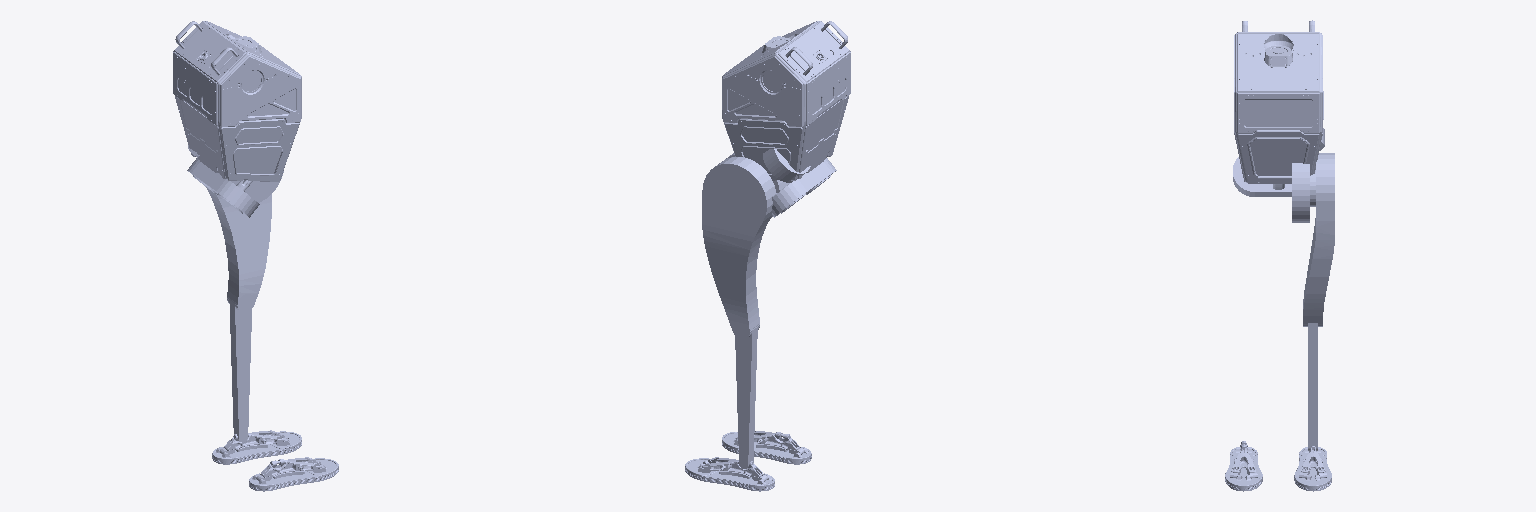
URDF robot description (TH01):
<?xml version="1.0" ?>
<!-- =================================================================================== -->
<!-- |    This document was autogenerated by csv to urdf                               | -->
<!-- |    EDITING THIS FILE BY HAND IS NOT RECOMMENDED                                 | -->
<!-- =================================================================================== -->
<robot
  name="TH01">
  <link
    name="BASE_LINK">
    <inertial>
      <origin
        xyz="-0.01331 0 0.14967"
        rpy="0 0 0" />
      <mass
        value="13.27922" />
      <inertia
        ixx="0.60276"
        ixy="0"
        ixz="-0.03884"
        iyy="0.60004"
        iyz="0.00001"
        izz="0.18187" />
    </inertial>
    <visual>
      <origin
        xyz="0 0 0"
        rpy="0 0 0" />
      <geometry>
        <mesh
          filename="package://TH01/meshes/BASE_LINK.STL" />
      </geometry>
      <material
        name="">
        <color
          rgba="0.79216 0.81961 0.93333 1" />
      </material>
    </visual>
    <collision>
      <origin
        xyz="0 0 0"
        rpy="0 0 0" />
      <geometry>
        <mesh
          filename="package://TH01/meshes/BASE_LINK.STL" />
      </geometry>
    </collision>
  </link>
  <link
    name="HIP_R">
    <inertial>
      <origin
        xyz="0.00398 -0.00006 0.00636"
        rpy="0 0 0" />
      <mass
        value="0.83264" />
      <inertia
        ixx="0.0019"
        ixy="0"
        ixz="0"
        iyy="0.00124"
        iyz="0"
        izz="0.00094" />
    </inertial>
    <visual>
      <origin
        xyz="0 0 0"
        rpy="0 0 0" />
      <geometry>
        <mesh
          filename="package://TH01/meshes/HIP_R.STL" />
      </geometry>
      <material
        name="">
        <color
          rgba="0.79216 0.81961 0.93333 1" />
      </material>
    </visual>
    <collision>
      <origin
        xyz="0 0 0"
        rpy="0 0 0" />
      <geometry>
        <mesh
          filename="package://TH01/meshes/HIP_R.STL" />
      </geometry>
    </collision>
  </link>
  <joint
    name="HIP_YAW_R"
    type="revolute">
    <origin
      xyz="-0.114705815 -0.0625004 -0.120801022"
      rpy="0 0.785398163 0" />
    <parent
      link="BASE_LINK" />
    <child
      link="HIP_R" />
    <axis
      xyz="0 0 1" />
    <limit
      lower="0"
      upper="0"
      effort="0"
      velocity="0" />
  </joint>
  <link
    name="HIP_ABAD_R">
    <inertial>
      <origin
        xyz="-0.002 0.00147 0.00404"
        rpy="0 0 0" />
      <mass
        value="2.78794" />
      <inertia
        ixx="0.01442"
        ixy="0"
        ixz="-0.00002"
        iyy="0.00791"
        iyz="0"
        izz="0.0072" />
    </inertial>
    <visual>
      <origin
        xyz="0 0 0"
        rpy="0 0 0" />
      <geometry>
        <mesh
          filename="package://TH01/meshes/HIP_ABAD_R.STL" />
      </geometry>
      <material
        name="">
        <color
          rgba="0.79216 0.81961 0.93333 1" />
      </material>
    </visual>
    <collision>
      <origin
        xyz="0 0 0"
        rpy="0 0 0" />
      <geometry>
        <mesh
          filename="package://TH01/meshes/HIP_ABAD_R.STL" />
      </geometry>
    </collision>
  </link>
  <joint
    name="HIP_ROLL_R"
    type="revolute">
    <origin
      xyz="0.141 0 0"
      rpy="1.5708 0 -1.5708" />
    <parent
      link="HIP_R" />
    <child
      link="HIP_ABAD_R" />
    <axis
      xyz="0 0 1" />
    <limit
      lower="0"
      upper="0"
      effort="0"
      velocity="0" />
  </joint>
  <link
    name="FEMUR_R">
    <inertial>
      <origin
        xyz="0.06111 0.00174 0.02002"
        rpy="0 0 0" />
      <mass
        value="3.75384" />
      <inertia
        ixx="0.01172"
        ixy="0.00157"
        ixz="0.00098"
        iyy="0.07026"
        iyz="0.00014"
        izz="0.07594" />
    </inertial>
    <visual>
      <origin
        xyz="0 0 0"
        rpy="0 0 0" />
      <geometry>
        <mesh
          filename="package://TH01/meshes/FEMUR_R.STL" />
      </geometry>
      <material
        name="">
        <color
          rgba="0.79216 0.81961 0.93333 1" />
      </material>
    </visual>
    <collision>
      <origin
        xyz="0 0 0"
        rpy="0 0 0" />
      <geometry>
        <mesh
          filename="package://TH01/meshes/FEMUR_R.STL" />
      </geometry>
    </collision>
  </link>
  <joint
    name="HIP_PITCH_R"
    type="revolute">
    <origin
      xyz="0.029 0 0"
      rpy="-1.5708 0.7854 -1.5708" />
    <parent
      link="HIP_ABAD_R" />
    <child
      link="FEMUR_R" />
    <axis
      xyz="0 0 1" />
    <limit
      lower="0"
      upper="0"
      effort="0"
      velocity="0" />
  </joint>
  <link
    name="TIBIA_R">
    <inertial>
      <origin
        xyz="0.09678 0.00694 -0.00006"
        rpy="0 0 0" />
      <mass
        value="1.27716" />
      <inertia
        ixx="0.00091"
        ixy="0.00069"
        ixz="-0.00001"
        iyy="0.02323"
        iyz="0"
        izz="0.02318" />
    </inertial>
    <visual>
      <origin
        xyz="0 0 0"
        rpy="0 0 0" />
      <geometry>
        <mesh
          filename="package://TH01/meshes/TIBIA_R.STL" />
      </geometry>
      <material
        name="">
        <color
          rgba="0.79216 0.81961 0.93333 1" />
      </material>
    </visual>
    <collision>
      <origin
        xyz="0 0 0"
        rpy="0 0 0" />
      <geometry>
        <mesh
          filename="package://TH01/meshes/TIBIA_R.STL" />
      </geometry>
    </collision>
  </link>
  <joint
    name="KNEE_PITCH_R"
    type="revolute">
    <origin
      xyz="0.375 0 0"
      rpy="0 0 0" />
    <parent
      link="FEMUR_R" />
    <child
      link="TIBIA_R" />
    <axis
      xyz="0 0 1" />
    <limit
      lower="0"
      upper="0"
      effort="0"
      velocity="0" />
  </joint>
  <link
    name="ANKLE_R">
    <inertial>
      <origin
        xyz="0 0 0"
        rpy="0 0 0" />
      <mass
        value="0.00694571" />
      <inertia
        ixx="0.00000076"
        ixy="0"
        ixz="0"
        iyy="0.00000076"
        iyz="0"
        izz="0.00000004" />
    </inertial>
    <visual>
      <origin
        xyz="0 0 0"
        rpy="0 0 0" />
      <geometry>
        <mesh
          filename="package://TH01/meshes/ANKLE_R.STL" />
      </geometry>
      <material
        name="">
        <color
          rgba="0.79216 0.81961 0.93333 1" />
      </material>
    </visual>
    <collision>
      <origin
        xyz="0 0 0"
        rpy="0 0 0" />
      <geometry>
        <mesh
          filename="package://TH01/meshes/ANKLE_R.STL" />
      </geometry>
    </collision>
  </link>
  <joint
    name="ANKLE_PITCH_R"
    type="revolute">
    <origin
      xyz="0.375 0 0"
      rpy="0 0 0" />
    <parent
      link="TIBIA_R" />
    <child
      link="ANKLE_R" />
    <axis
      xyz="0 0 1" />
    <limit
      lower="0"
      upper="0"
      effort="0"
      velocity="0" />
  </joint>
  <link
    name="FOOT_R">
    <inertial>
      <origin
        xyz="0.01948 -0.00003 0.03906"
        rpy="0 0 0" />
      <mass
        value="0.17981" />
      <inertia
        ixx="0.00068"
        ixy="0"
        ixz="0.00016"
        iyy="0.00072"
        iyz="0"
        izz="0.00013" />
    </inertial>
    <visual>
      <origin
        xyz="0 0 0"
        rpy="0 0 0" />
      <geometry>
        <mesh
          filename="package://TH01/meshes/FOOT_R.STL" />
      </geometry>
      <material
        name="">
        <color
          rgba="0.79216 0.81961 0.93333 1" />
      </material>
    </visual>
    <collision>
      <origin
        xyz="0 0 0"
        rpy="0 0 0" />
      <geometry>
        <mesh
          filename="package://TH01/meshes/FOOT_R.STL" />
      </geometry>
    </collision>
  </link>
  <joint
    name="ANKLE_ROLL_R"
    type="revolute">
    <origin
      xyz="0 0 0"
      rpy="-1.5708 0 0" />
    <parent
      link="ANKLE_R" />
    <child
      link="FOOT_R" />
    <axis
      xyz="0 0 1" />
    <limit
      lower="0"
      upper="0"
      effort="0"
      velocity="0" />
  </joint>
  <link
    name="HIP_L">
    <inertial>
      <origin
        xyz="0.00398 -0.00006 0.00636"
        rpy="0 0 0" />
      <mass
        value="0.83264" />
      <inertia
        ixx="0.0019"
        ixy="0"
        ixz="0"
        iyy="0.00124"
        iyz="0"
        izz="0.00094" />
    </inertial>
    <visual>
      <origin
        xyz="0 0 0"
        rpy="0 0 0" />
      <geometry>
        <mesh
          filename="package://TH01/meshes/HIP_L.STL" />
      </geometry>
      <material
        name="">
        <color
          rgba="0.79216 0.81961 0.93333 1" />
      </material>
    </visual>
    <collision>
      <origin
        xyz="0 0 0"
        rpy="0 0 0" />
      <geometry>
        <mesh
          filename="package://TH01/meshes/HIP_L.STL" />
      </geometry>
    </collision>
  </link>
  <joint
    name="HIP_YAW_L"
    type="revolute">
    <origin
      xyz="-0.114705815 0.0624996 -0.120801022"
      rpy="0 0.785398163 0" />
    <parent
      link="BASE_LINK" />
    <child
      link="HIP_L" />
    <axis
      xyz="0 0 1" />
    <limit
      lower="0"
      upper="0"
      effort="0"
      velocity="0" />
  </joint>
  <link
    name="HIP_ABAD_L">
    <inertial>
      <origin
        xyz="0.00198 0.00146 0.00395"
        rpy="0 0 0" />
      <mass
        value="2.818" />
      <inertia
        ixx="0.01442"
        ixy="0"
        ixz="0.00002"
        iyy="0.00791"
        iyz="0"
        izz="0.0072" />
    </inertial>
    <visual>
      <origin
        xyz="0 0 0"
        rpy="0 0 0" />
      <geometry>
        <mesh
          filename="package://TH01/meshes/HIP_ABAD_L.STL" />
      </geometry>
      <material
        name="">
        <color
          rgba="0.79216 0.81961 0.93333 1" />
      </material>
    </visual>
    <collision>
      <origin
        xyz="0 0 0"
        rpy="0 0 0" />
      <geometry>
        <mesh
          filename="package://TH01/meshes/HIP_ABAD_L.STL" />
      </geometry>
    </collision>
  </link>
  <joint
    name="HIP_ROLL_L"
    type="revolute">
    <origin
      xyz="0.141 0 0"
      rpy="1.5708 0 -1.5708" />
    <parent
      link="HIP_L" />
    <child
      link="HIP_ABAD_L" />
    <axis
      xyz="0 0 1" />
    <limit
      lower="0"
      upper="0"
      effort="0"
      velocity="0" />
  </joint>
  <link
    name="FEMUR_L">
    <inertial>
      <origin
        xyz="0.06112 0.00177 -0.02002"
        rpy="0 0 0" />
      <mass
        value="3.75393" />
      <inertia
        ixx="0.01172"
        ixy="0.00157"
        ixz="-0.00098"
        iyy="0.07027"
        iyz="-0.00014"
        izz="0.07595" />
    </inertial>
    <visual>
      <origin
        xyz="0 0 0"
        rpy="0 0 0" />
      <geometry>
        <mesh
          filename="package://TH01/meshes/FEMUR_L.STL" />
      </geometry>
      <material
        name="">
        <color
          rgba="0.79216 0.81961 0.93333 1" />
      </material>
    </visual>
    <collision>
      <origin
        xyz="0 0 0"
        rpy="0 0 0" />
      <geometry>
        <mesh
          filename="package://TH01/meshes/FEMUR_L.STL" />
      </geometry>
    </collision>
  </link>
  <joint
    name="HIP_PITCH_L"
    type="revolute">
    <origin
      xyz="-0.029 0 0"
      rpy="-1.5708 0.7854 -1.5708" />
    <parent
      link="HIP_ABAD_L" />
    <child
      link="FEMUR_L" />
    <axis
      xyz="0 0 1" />
    <limit
      lower="0"
      upper="0"
      effort="0"
      velocity="0" />
  </joint>
  <link
    name="TIBIA_L">
    <inertial>
      <origin
        xyz="0.09678 0.00694 -0.00006"
        rpy="0 0 0" />
      <mass
        value="1.27716" />
      <inertia
        ixx="0.00091"
        ixy="0.00069"
        ixz="-0.00001"
        iyy="0.02323"
        iyz="0"
        izz="0.02318" />
    </inertial>
    <visual>
      <origin
        xyz="0 0 0"
        rpy="0 0 0" />
      <geometry>
        <mesh
          filename="package://TH01/meshes/TIBIA_L.STL" />
      </geometry>
      <material
        name="">
        <color
          rgba="0.79216 0.81961 0.93333 1" />
      </material>
    </visual>
    <collision>
      <origin
        xyz="0 0 0"
        rpy="0 0 0" />
      <geometry>
        <mesh
          filename="package://TH01/meshes/TIBIA_L.STL" />
      </geometry>
    </collision>
  </link>
  <joint
    name="KNEE_PITCH_L"
    type="revolute">
    <origin
      xyz="0.375 0 0"
      rpy="0 0 0" />
    <parent
      link="FEMUR_L" />
    <child
      link="TIBIA_L" />
    <axis
      xyz="0 0 1" />
    <limit
      lower="0"
      upper="0"
      effort="0"
      velocity="0" />
  </joint>
  <link
    name="ANKLE_L">
    <inertial>
      <origin
        xyz="0 0 0"
        rpy="0 0 0" />
      <mass
        value="0.00694571" />
      <inertia
        ixx="0"
        ixy="0"
        ixz="0"
        iyy="0"
        iyz="0"
        izz="0" />
    </inertial>
    <visual>
      <origin
        xyz="0 0 0"
        rpy="0 0 0" />
      <geometry>
        <mesh
          filename="package://TH01/meshes/ANKLE_L.STL" />
      </geometry>
      <material
        name="">
        <color
          rgba="0.79216 0.81961 0.93333 1" />
      </material>
    </visual>
    <collision>
      <origin
        xyz="0 0 0"
        rpy="0 0 0" />
      <geometry>
        <mesh
          filename="package://TH01/meshes/ANKLE_L.STL" />
      </geometry>
    </collision>
  </link>
  <joint
    name="ANKLE_PITCH_L"
    type="revolute">
    <origin
      xyz="0.375 0 0"
      rpy="0 0 0" />
    <parent
      link="TIBIA_L" />
    <child
      link="ANKLE_L" />
    <axis
      xyz="0 0 1" />
    <limit
      lower="0"
      upper="0"
      effort="0"
      velocity="0" />
  </joint>
  <link
    name="FOOT_L">
    <inertial>
      <origin
        xyz="0.01948 -0.00003 0.03906"
        rpy="0 0 0" />
      <mass
        value="0.17981" />
      <inertia
        ixx="0.00068"
        ixy="0"
        ixz="0.00016"
        iyy="0.00072"
        iyz="0"
        izz="0.00013" />
    </inertial>
    <visual>
      <origin
        xyz="0 0 0"
        rpy="0 0 0" />
      <geometry>
        <mesh
          filename="package://TH01/meshes/FOOT_L.STL" />
      </geometry>
      <material
        name="">
        <color
          rgba="0.79216 0.81961 0.93333 1" />
      </material>
    </visual>
    <collision>
      <origin
        xyz="0 0 0"
        rpy="0 0 0" />
      <geometry>
        <mesh
          filename="package://TH01/meshes/FOOT_L.STL" />
      </geometry>
    </collision>
  </link>
  <joint
    name="ANKLE_ROLL_L"
    type="revolute">
    <origin
      xyz="0 0 0"
      rpy="-1.5708 0 0" />
    <parent
      link="ANKLE_L" />
    <child
      link="FOOT_L" />
    <axis
      xyz="0 0 1" />
    <limit
      lower="0"
      upper="0"
      effort="0"
      velocity="0" />
  </joint>
</robot>

--- Facts derived from the render (not from the file) ---
The picture shows the robot from 3 angles, left to right: view 1: azimuth 30°, elevation 25°; view 2: azimuth 150°, elevation 25°; view 3: azimuth 270°, elevation 25°; orthographic projection.
Robot: TH01 — 13 links, 12 joints (12 revolute); root link BASE_LINK; default pose: every joint at zero.
Visible links, largest first — view 1: BASE_LINK, FEMUR_L, TIBIA_L, FOOT_R, FOOT_L; view 2: BASE_LINK, FEMUR_L, TIBIA_L, FOOT_L, FOOT_R, HIP_L; view 3: BASE_LINK, FEMUR_L, FOOT_R, FOOT_L, HIP_ABAD_L, TIBIA_L.
Link boxes in pixels (box(x1,y1,x2,y2)): BASE_LINK: box(173, 21, 301, 217); FEMUR_L: box(206, 187, 271, 312); TIBIA_L: box(227, 294, 254, 441); FOOT_R: box(249, 457, 338, 491); FOOT_L: box(212, 430, 301, 464); BASE_LINK: box(722, 21, 850, 217); FEMUR_L: box(702, 157, 776, 339); TIBIA_L: box(732, 322, 759, 468); FOOT_L: box(685, 457, 774, 491); FOOT_R: box(722, 431, 811, 464); HIP_L: box(763, 149, 810, 182); BASE_LINK: box(1233, 20, 1323, 196); FEMUR_L: box(1303, 153, 1334, 324); FOOT_R: box(1225, 441, 1262, 491); FOOT_L: box(1294, 446, 1331, 491); HIP_ABAD_L: box(1292, 163, 1315, 222); TIBIA_L: box(1303, 323, 1322, 447).
Size in the robot's own frame: 0.3581 by 0.2904 by 1.23 metres.
Meshes: 13 distinct files referenced, 8 mesh visuals loaded (8 binary STL); not drawn: 5 (reference not matched to a file when rendering).